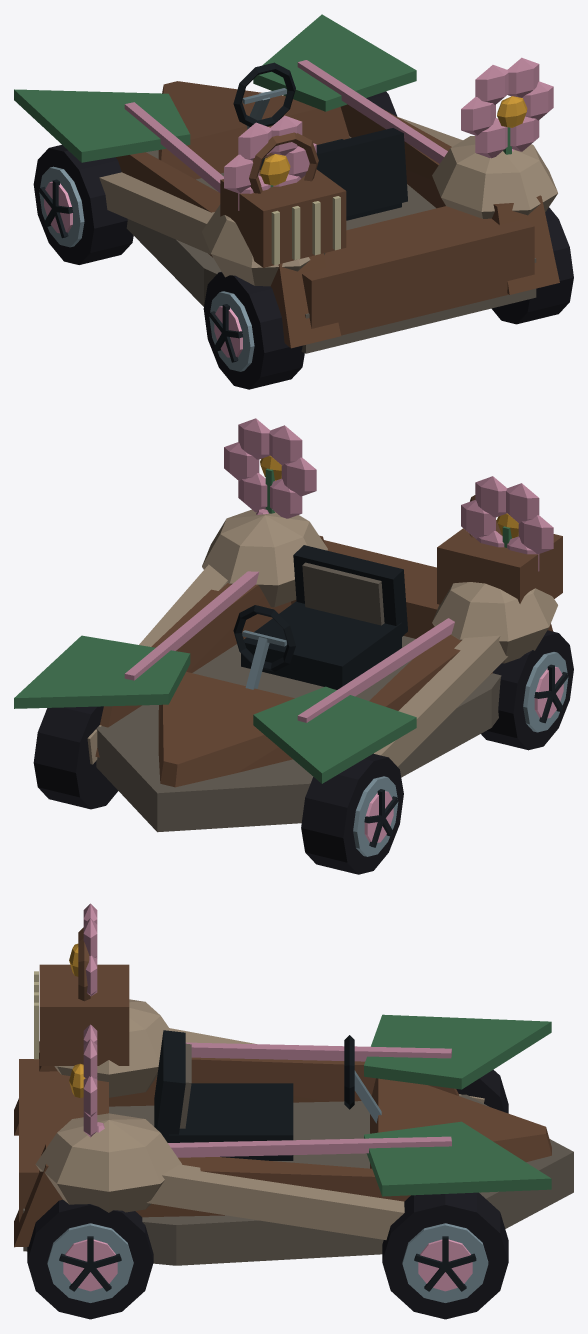
The model's file is kart.glb.
3 renders of one model, top to bottom at view 1: azimuth 30°, elevation 25°; view 2: azimuth 150°, elevation 25°; view 3: azimuth 270°, elevation 25°, orthographic. The views are drawn at different scales.
Visible parts, largest first — view 1: identity-nature-nature-root-cradle-and-leaf-bow, identity-nature-motif-flowers, identity-nature-motif-basket, wheel-front-left, identity-nature-driver-cockpit, wheel-rear-left, wheel-rear-right; view 2: identity-nature-nature-root-cradle-and-leaf-bow, identity-nature-driver-cockpit, identity-nature-motif-flowers, wheel-front-left, wheel-rear-left, wheel-front-right, identity-nature-motif-basket; view 3: identity-nature-nature-root-cradle-and-leaf-bow, wheel-front-right, wheel-rear-right, identity-nature-driver-cockpit, identity-nature-motif-basket, identity-nature-motif-flowers, wheel-front-left.
Part boxes in pixels (x1,y1,x2,y2): identity-nature-nature-root-cradle-and-leaf-bow: [14, 14, 559, 353]; identity-nature-motif-flowers: [224, 57, 553, 210]; identity-nature-motif-basket: [220, 132, 346, 267]; wheel-front-left: [33, 145, 133, 264]; identity-nature-driver-cockpit: [233, 62, 407, 220]; wheel-rear-left: [203, 272, 304, 389]; wheel-rear-right: [491, 207, 573, 324]; identity-nature-nature-root-cradle-and-leaf-bow: [14, 509, 557, 832]; identity-nature-driver-cockpit: [233, 545, 407, 689]; identity-nature-motif-flowers: [224, 418, 553, 571]; wheel-front-left: [301, 753, 403, 874]; wheel-rear-left: [481, 630, 573, 750]; wheel-front-right: [33, 706, 117, 809]; identity-nature-motif-basket: [437, 495, 562, 604]; identity-nature-nature-root-cradle-and-leaf-bow: [14, 999, 573, 1265]; wheel-front-right: [382, 1192, 508, 1319]; wheel-rear-right: [27, 1199, 153, 1319]; identity-nature-driver-cockpit: [154, 1030, 381, 1160]; identity-nature-motif-basket: [34, 927, 129, 1065]; identity-nature-motif-flowers: [69, 903, 97, 1137]; wheel-front-left: [456, 1069, 508, 1113].
Bounding box in the file's own units: 2 × 1.46 × 2.75.
